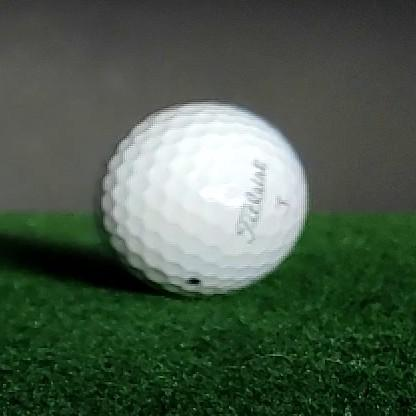golfball: (97, 101, 308, 295)
